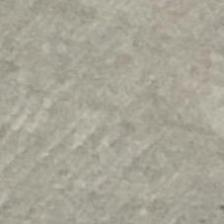Non_Crack: (35, 33, 224, 218)
